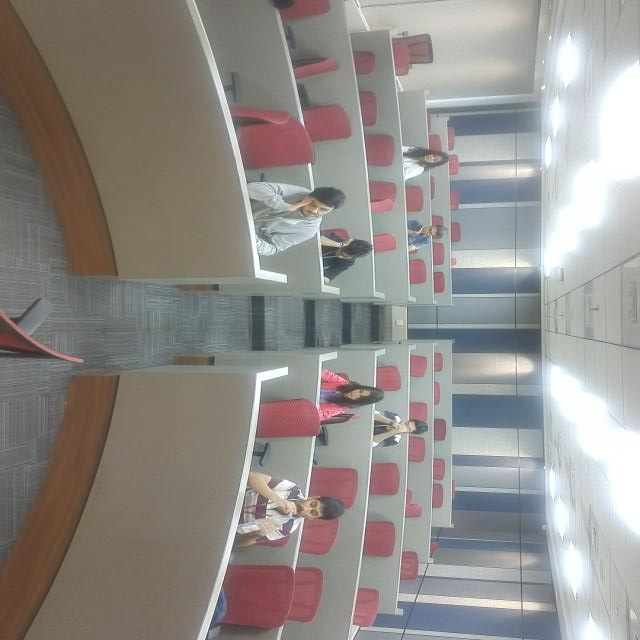non-cheating: (180, 270, 249, 422), (398, 194, 447, 278)
